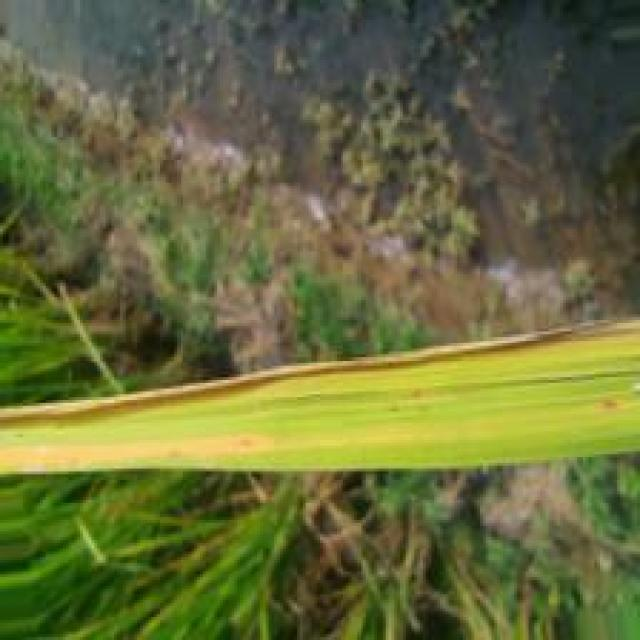Bacterial_Leaf_Blight: (0, 321, 640, 425), (0, 434, 275, 470), (599, 396, 622, 409)
